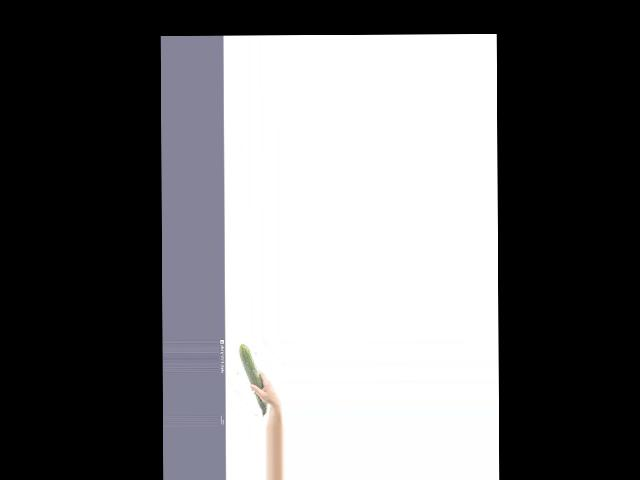cucumber: (238, 343, 267, 417)
